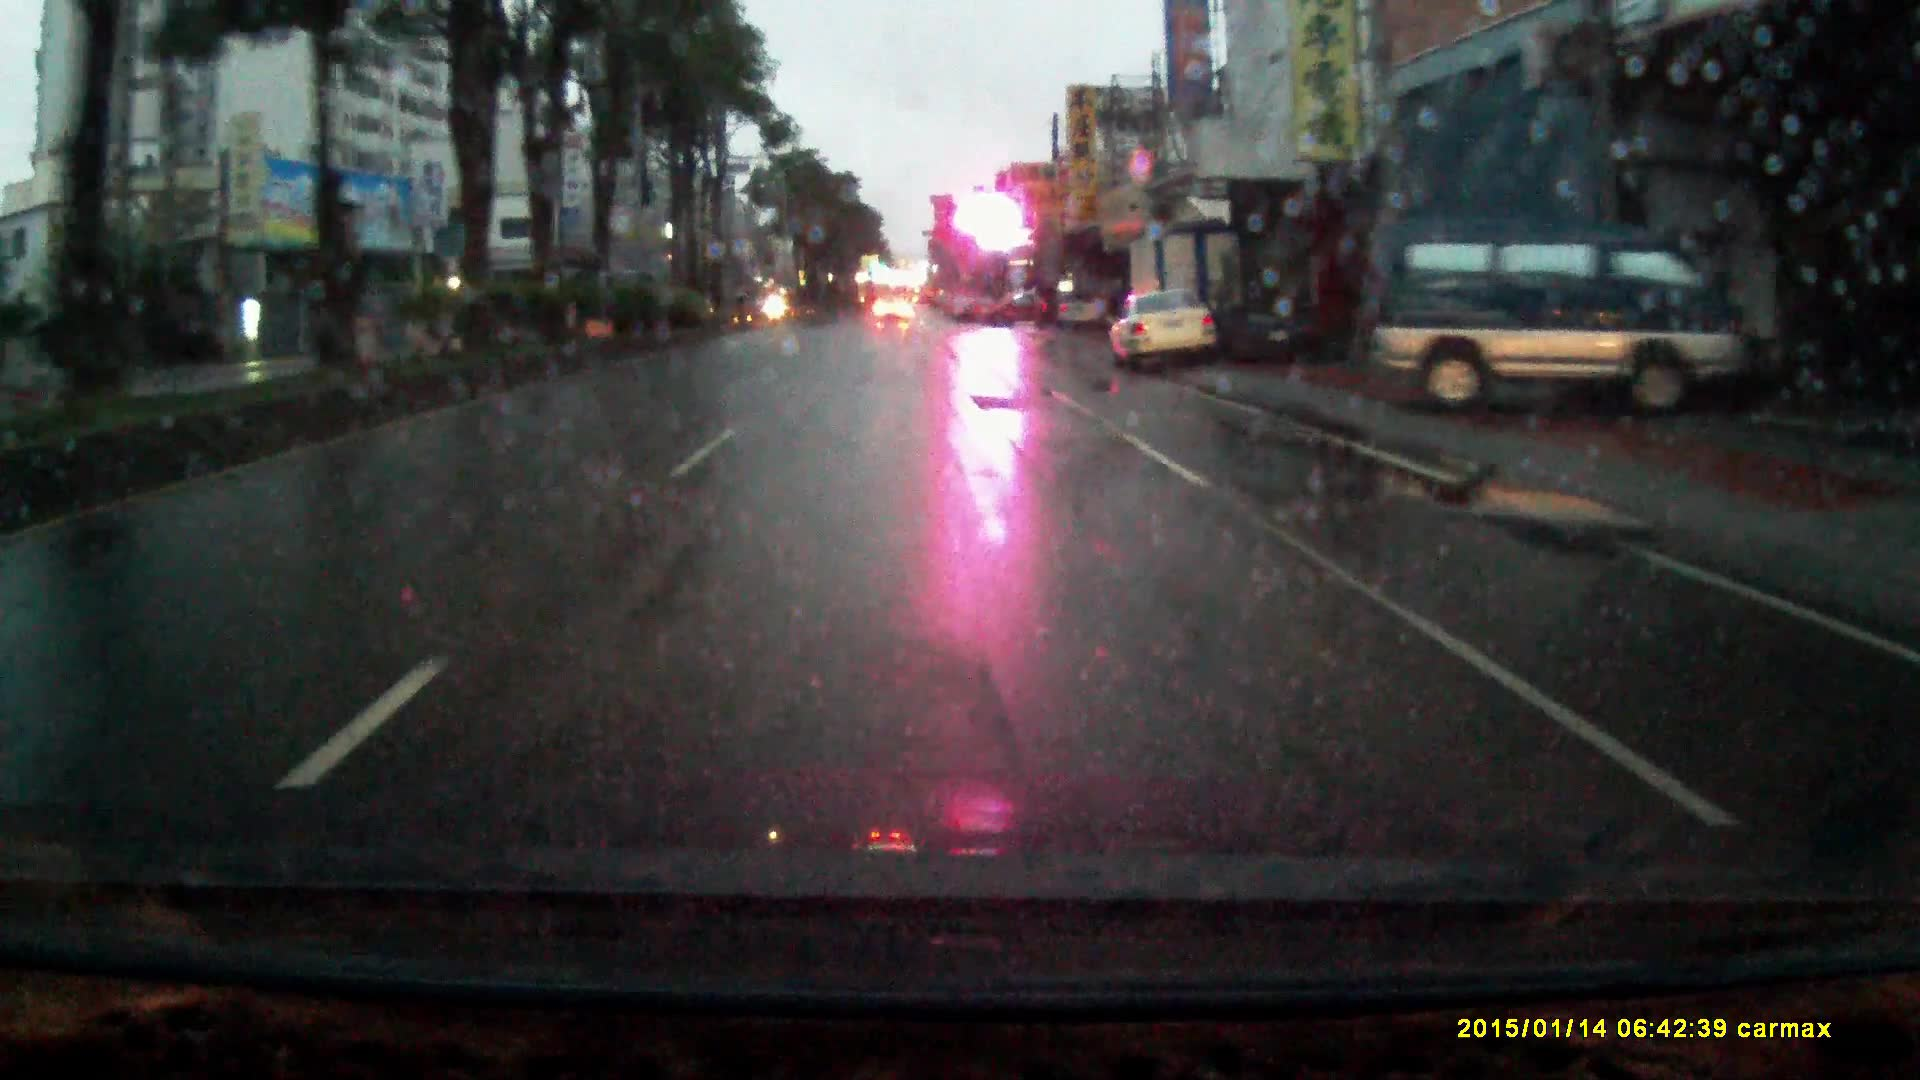vehicle: (1377, 216, 1758, 425), (1120, 225, 1257, 373), (1108, 291, 1226, 373), (975, 290, 1048, 331), (1046, 293, 1101, 335), (876, 297, 910, 328)
